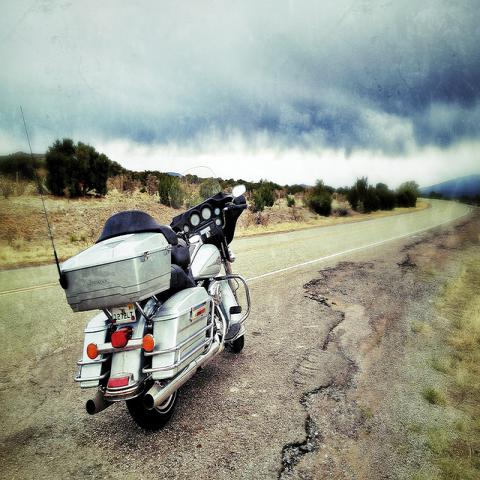motorcycle: (59, 182, 255, 432)
